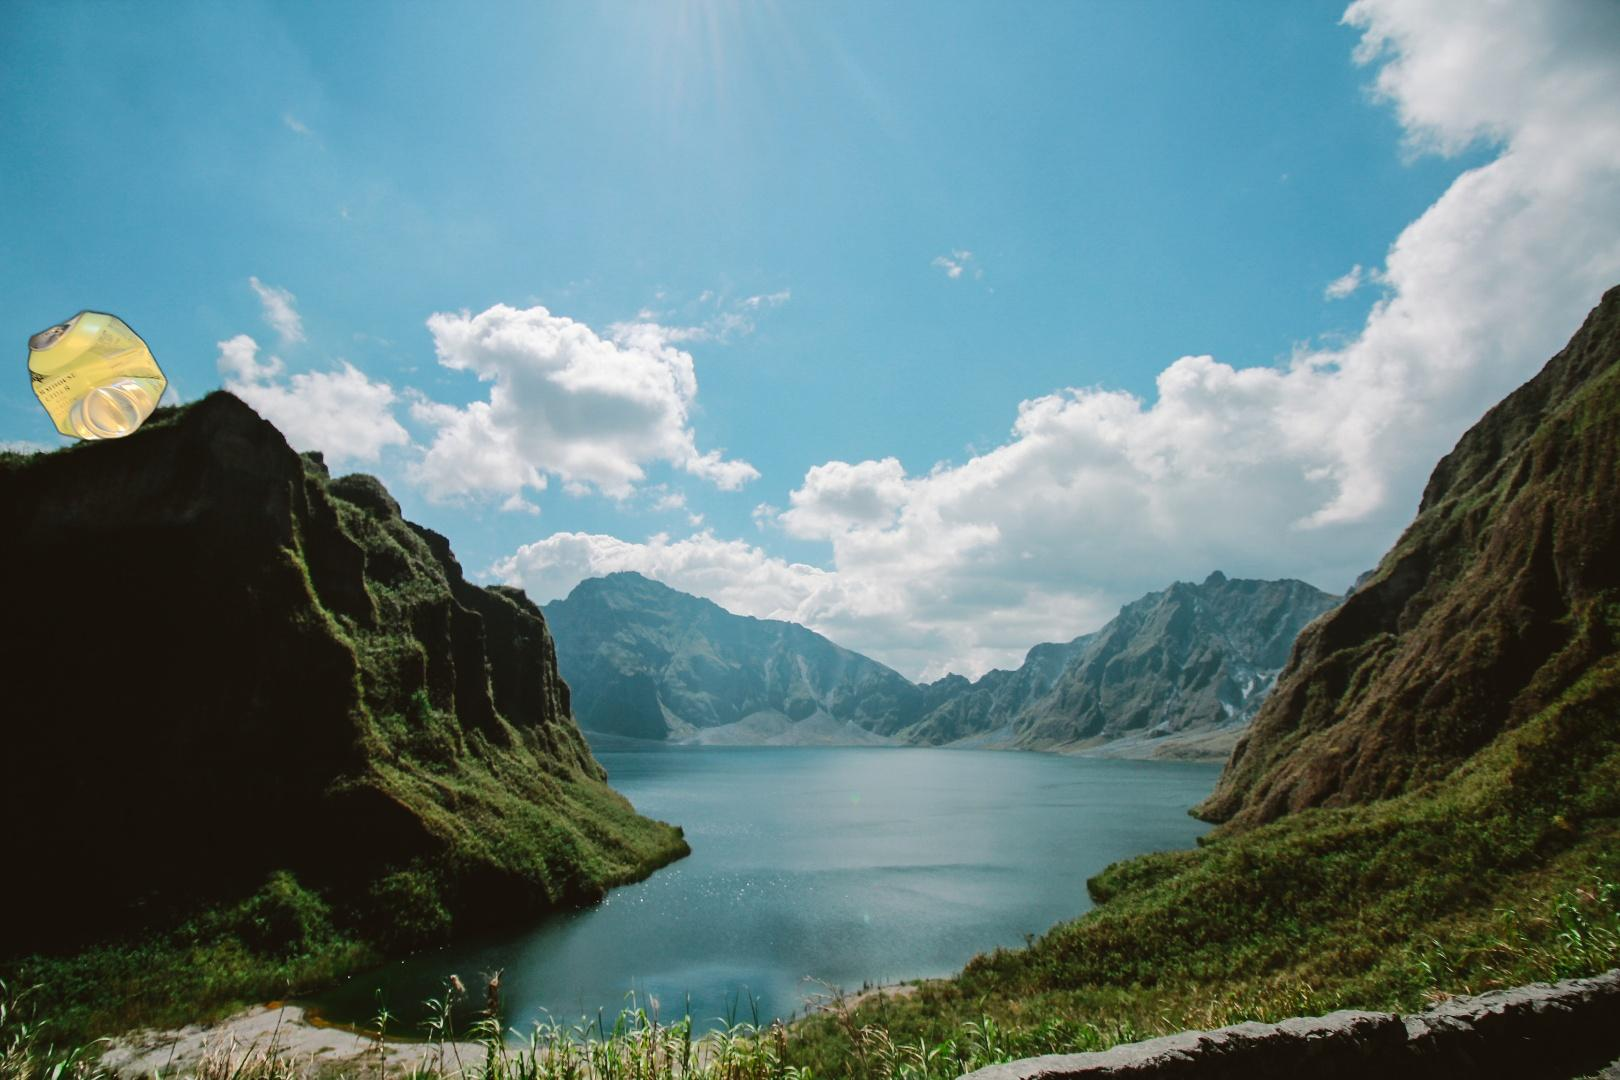metal-cans: (23, 306, 171, 447)
